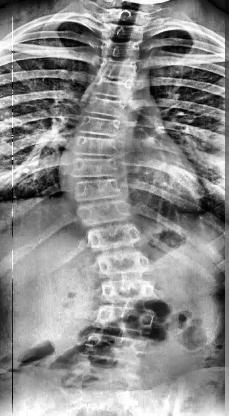Vertebrae: (80, 331, 148, 367), (91, 303, 159, 335), (82, 221, 146, 252), (94, 248, 156, 278), (76, 198, 134, 228), (98, 276, 160, 304), (70, 174, 126, 202), (70, 130, 124, 158), (70, 153, 126, 179), (74, 110, 124, 138), (84, 91, 132, 117), (100, 19, 150, 43), (89, 75, 137, 99), (98, 38, 146, 60), (95, 58, 139, 82)
